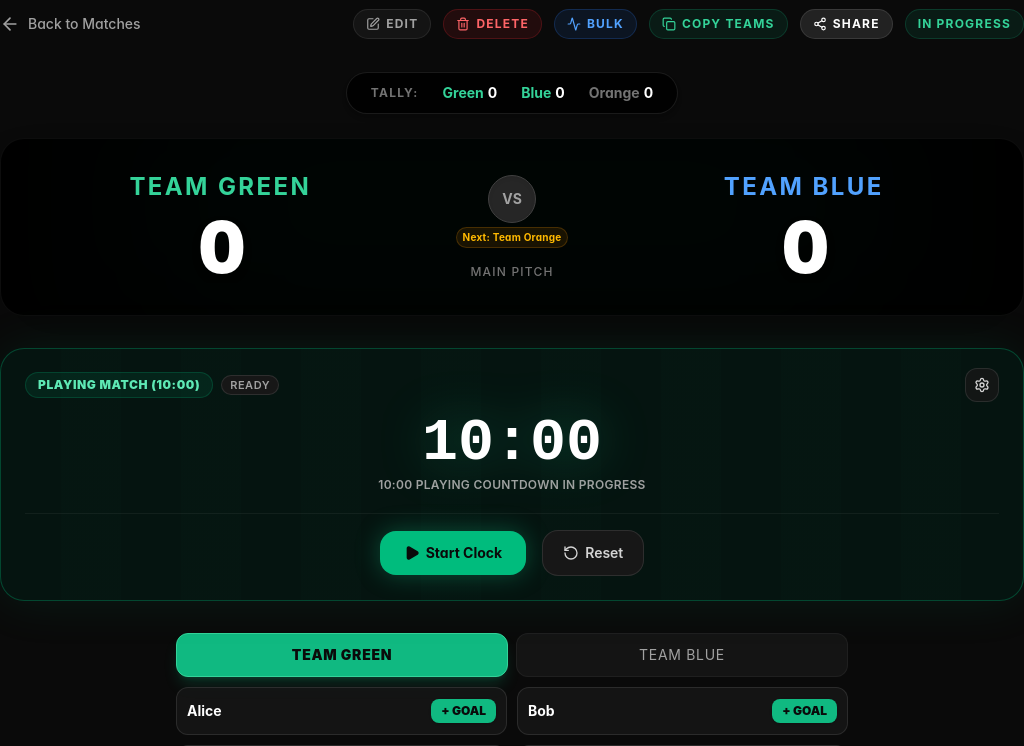
ActiveMatchControlCenter Integration Suite › 3. Existing AssistModal Integration › records goal with assist attribution when a teammate is selected in AssistModal
# Initiate goal for Alice
What coordinates should you click on to do the following:
click the button with test id "player-card-p1"
I would click on:
 (204, 710)
Its box is x1=176 y1=687 x2=507 y2=735.
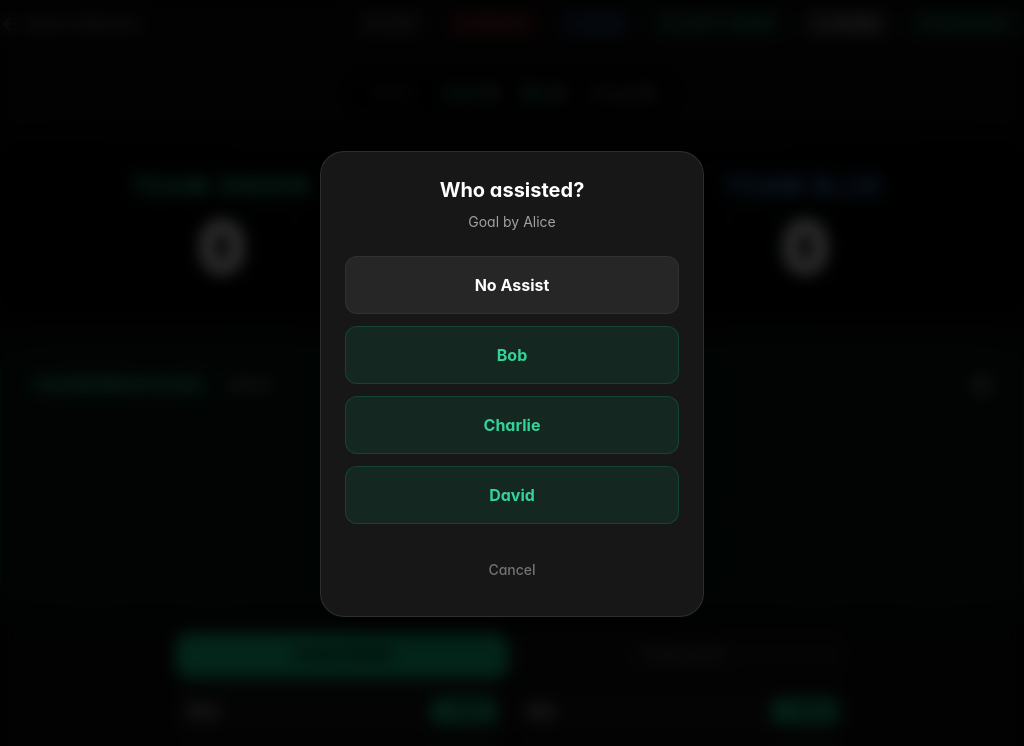
# Confirm assist by Bob (p2)
What coordinates should you click on to do the following:
click the button "Bob"
I would click on:
 (512, 355)
Its box is x1=345 y1=326 x2=679 y2=384.
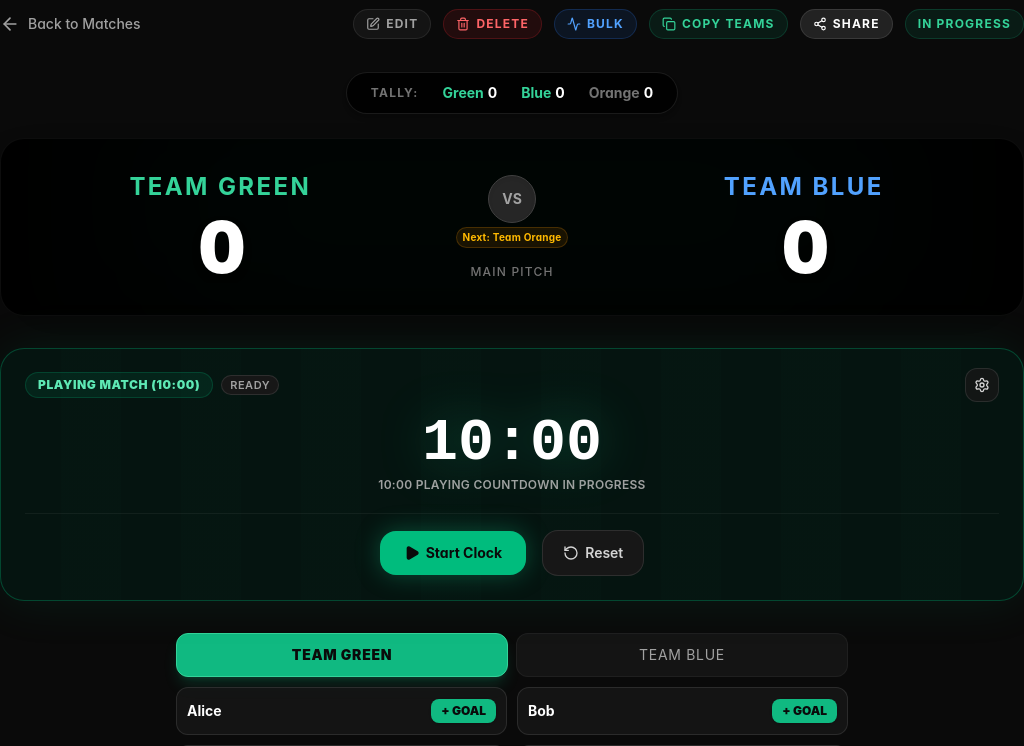
Result: the heading "Who assisted?" is gone
